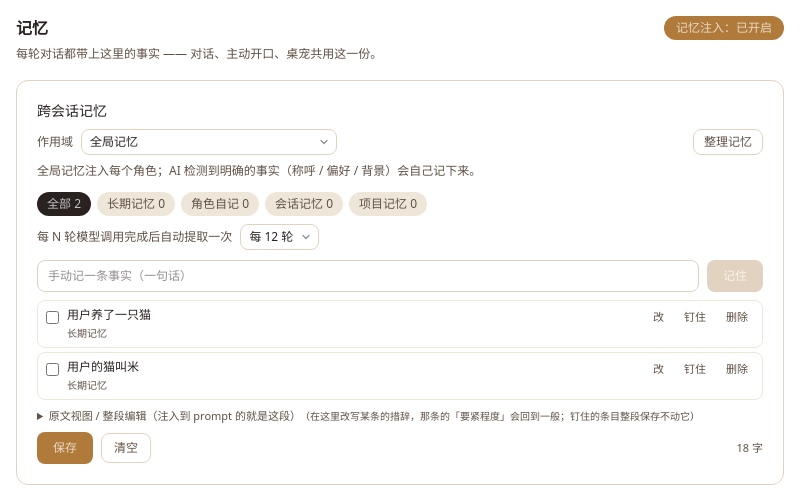
Scenario: 记忆卡「整理记忆」（一次模型调用，只写标记） › 两条以上才可点：整理后列表刷成响应里那份，并报出条数与成本
记忆是**异步**载入的：`mem` 到位前按钮一直是禁用态，直接点等于点空气（第一次写就踩了）。
Click the button "整理记忆".
click(728, 142)  # box [693,128,763,154]
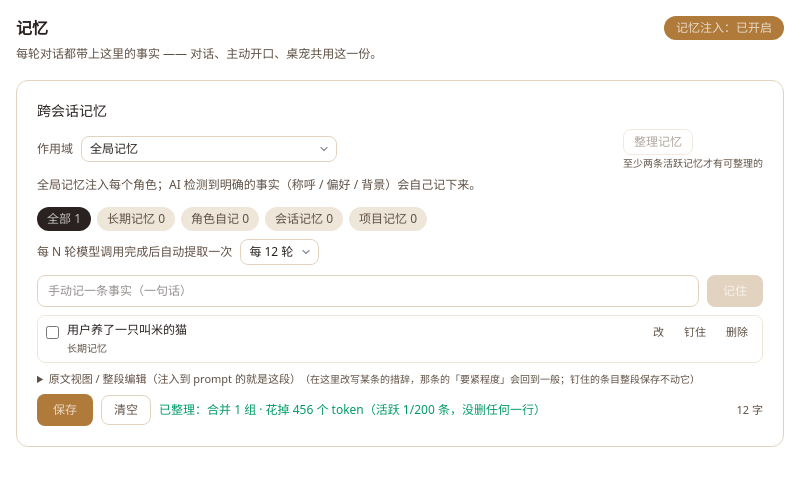
Expected: the text "用户养了一只叫米的猫" is shown, [67,320,187,338]
Expected: the text "用户养了一只猫" is gone
Expected: the text "已整理：合并 1 组 · 花掉 456 个 token（活跃 1/200 条，没删任何一行）" is shown, [159,402,546,418]
